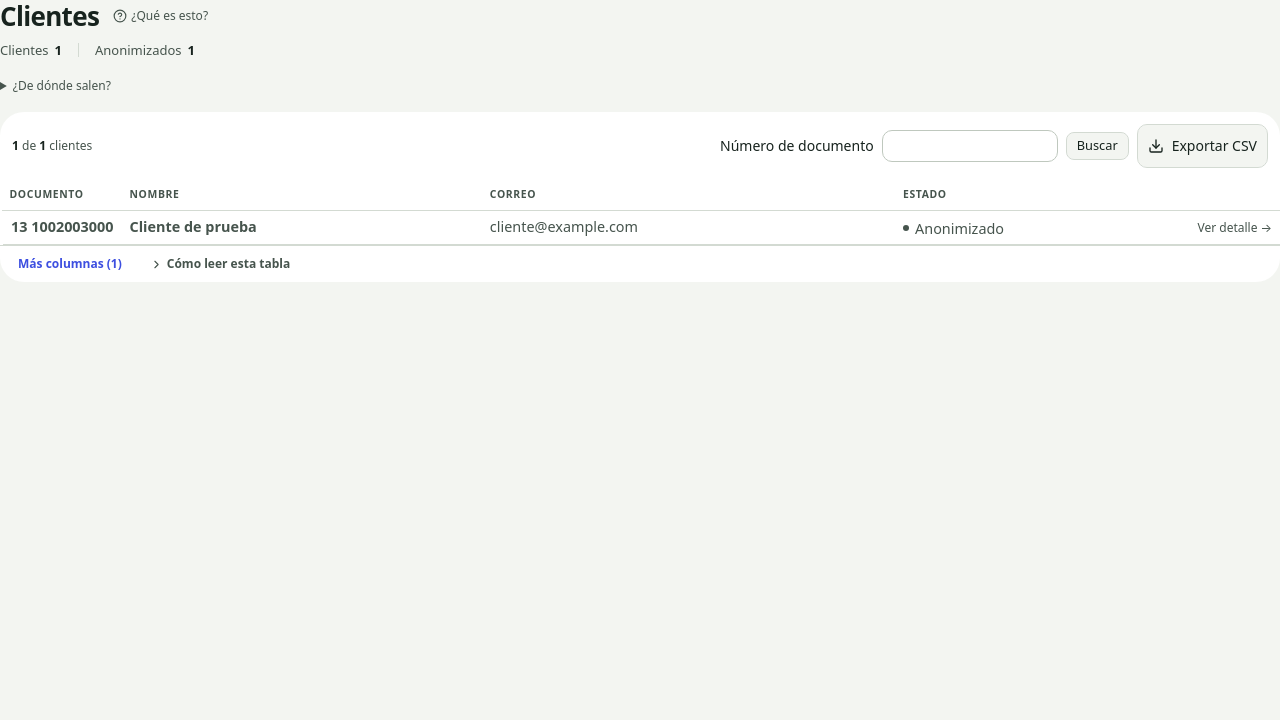
Test: CustomersPage › un cliente ya anonimizado no ofrece corregir datos ni agregar consentimientos
Expected: the text "Anonimizado" is shown, [903,218,1004,239]
Click the button "Cliente de prueba".
click(193, 227)  # box [130,216,257,238]
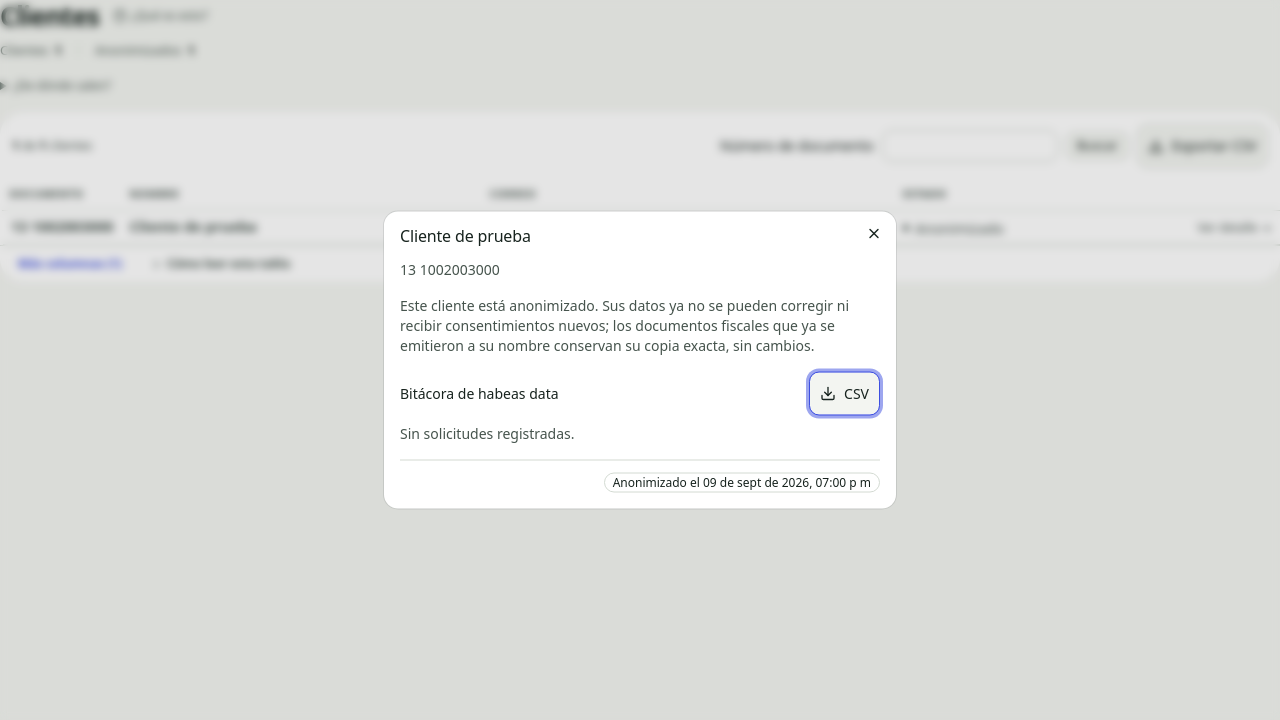
Now the text "Este cliente está anonimizado" is shown, box [400,296,849,354]
